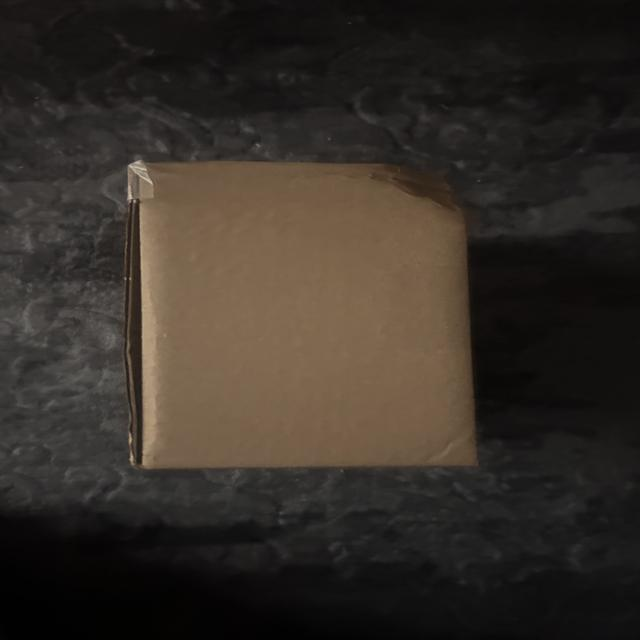damaged: (101, 150, 496, 484), (342, 138, 488, 237)
